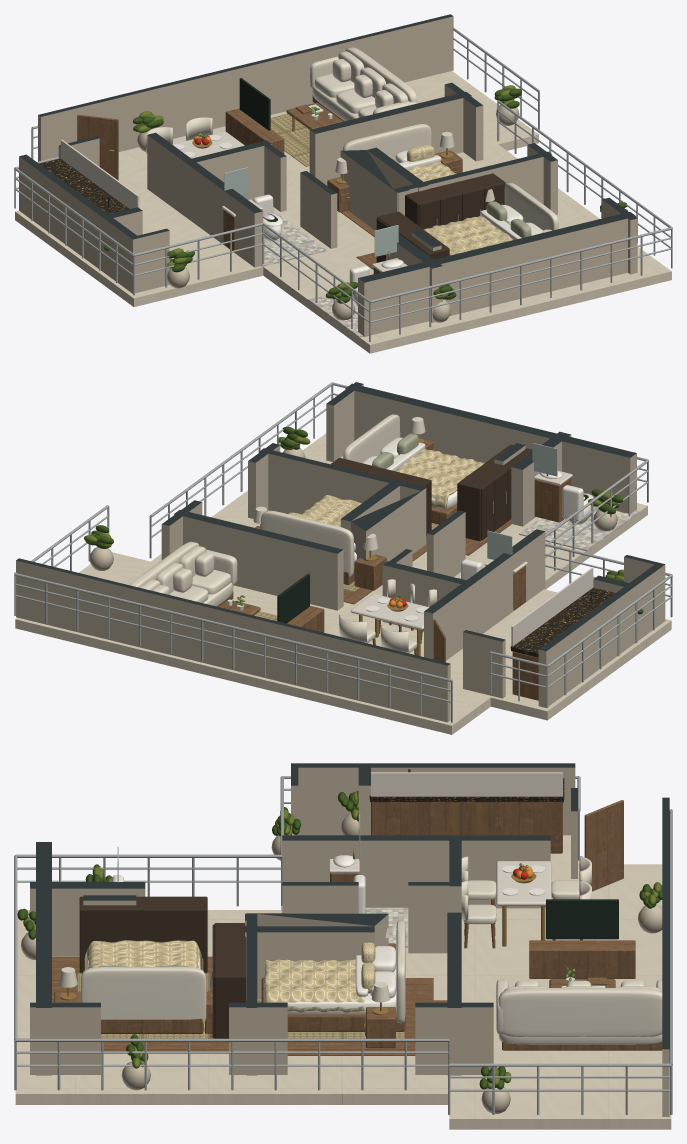
The picture shows the model from 3 angles, top to bottom: view 1: azimuth 30°, elevation 25°; view 2: azimuth 150°, elevation 25°; view 3: azimuth 270°, elevation 25°; orthographic projection. The views are drawn at different scales.
Parts seen in each view (by area): view 1: Source-traced internal and perimeter walls • Wall, Continuous apartment foundation, Soft jacquard duvet with folds.001, Padded headboard, Oak entrance door, Backsplash, Fitted dark wardrobe, Deep green kitchen stone, Padded headboard.001, Bathroom mosaic floor, Walnut media console, Living patterned carpet (+20 smaller); view 2: Source-traced internal and perimeter walls • Wall, Continuous apartment foundation, Soft jacquard duvet with folds.001, Padded headboard, Fitted dark wardrobe.001, Deep green kitchen stone, Backsplash, Bathroom mosaic floor.001, Balcony top rail, Padded headboard.001, Dining top, Fitted dark wardrobe (+19 smaller); view 3: Source-traced internal and perimeter walls • Wall, Continuous apartment foundation, Sofa back, Base cabinets, Padded headboard.001, Fitted dark wardrobe.001, Backsplash, Soft jacquard duvet with folds, Walnut media console, Fitted dark wardrobe, Television, Soft jacquard duvet with folds.001 (+35 smaller).
Boxes of the visible parts, <box> form: Source-traced internal and perimeter walls • Wall: <box>19,14,637,336</box>; Continuous apartment foundation: <box>15,71,671,353</box>; Soft jacquard duvet with folds.001: <box>423,215,512,255</box>; Padded headboard: <box>342,124,431,160</box>; Oak entrance door: <box>77,114,118,180</box>; Backsplash: <box>61,140,139,208</box>; Fitted dark wardrobe: <box>405,173,505,225</box>; Deep green kitchen stone: <box>39,158,129,214</box>; Padded headboard.001: <box>504,182,558,230</box>; Bathroom mosaic floor: <box>261,213,326,266</box>; Walnut media console: <box>225,108,284,153</box>; Living patterned carpet: <box>270,113,309,166</box>; Source-traced internal and perimeter walls • Wall: <box>16,382,665,722</box>; Continuous apartment foundation: <box>15,433,671,734</box>; Soft jacquard duvet with folds.001: <box>395,448,485,509</box>; Padded headboard: <box>261,510,354,577</box>; Fitted dark wardrobe.001: <box>457,444,532,541</box>; Deep green kitchen stone: <box>510,587,615,655</box>; Backsplash: <box>511,567,593,646</box>; Bathroom mosaic floor.001: <box>519,506,639,551</box>; Balcony top rail: <box>14,573,452,681</box>; Padded headboard.001: <box>343,414,400,462</box>; Dining top: <box>351,594,428,629</box>; Fitted dark wardrobe: <box>331,458,431,536</box>; Source-traced internal and perimeter walls • Wall: <box>30,763,669,1116</box>; Continuous apartment foundation: <box>15,835,671,1129</box>; Sofa back: <box>498,988,662,1036</box>; Base cabinets: <box>371,802,562,853</box>; Padded headboard.001: <box>80,967,206,1023</box>; Fitted dark wardrobe.001: <box>79,896,207,972</box>; Backsplash: <box>371,772,562,796</box>; Soft jacquard duvet with folds: <box>265,959,364,1012</box>; Walnut media console: <box>529,940,635,978</box>; Fitted dark wardrobe: <box>214,923,246,1038</box>; Television: <box>546,899,618,939</box>; Soft jacquard duvet with folds.001: <box>85,940,201,969</box>.
Bounding box in the file's own units: 10.27 × 1.7 × 9.89.
26 materials, 6 textured.
